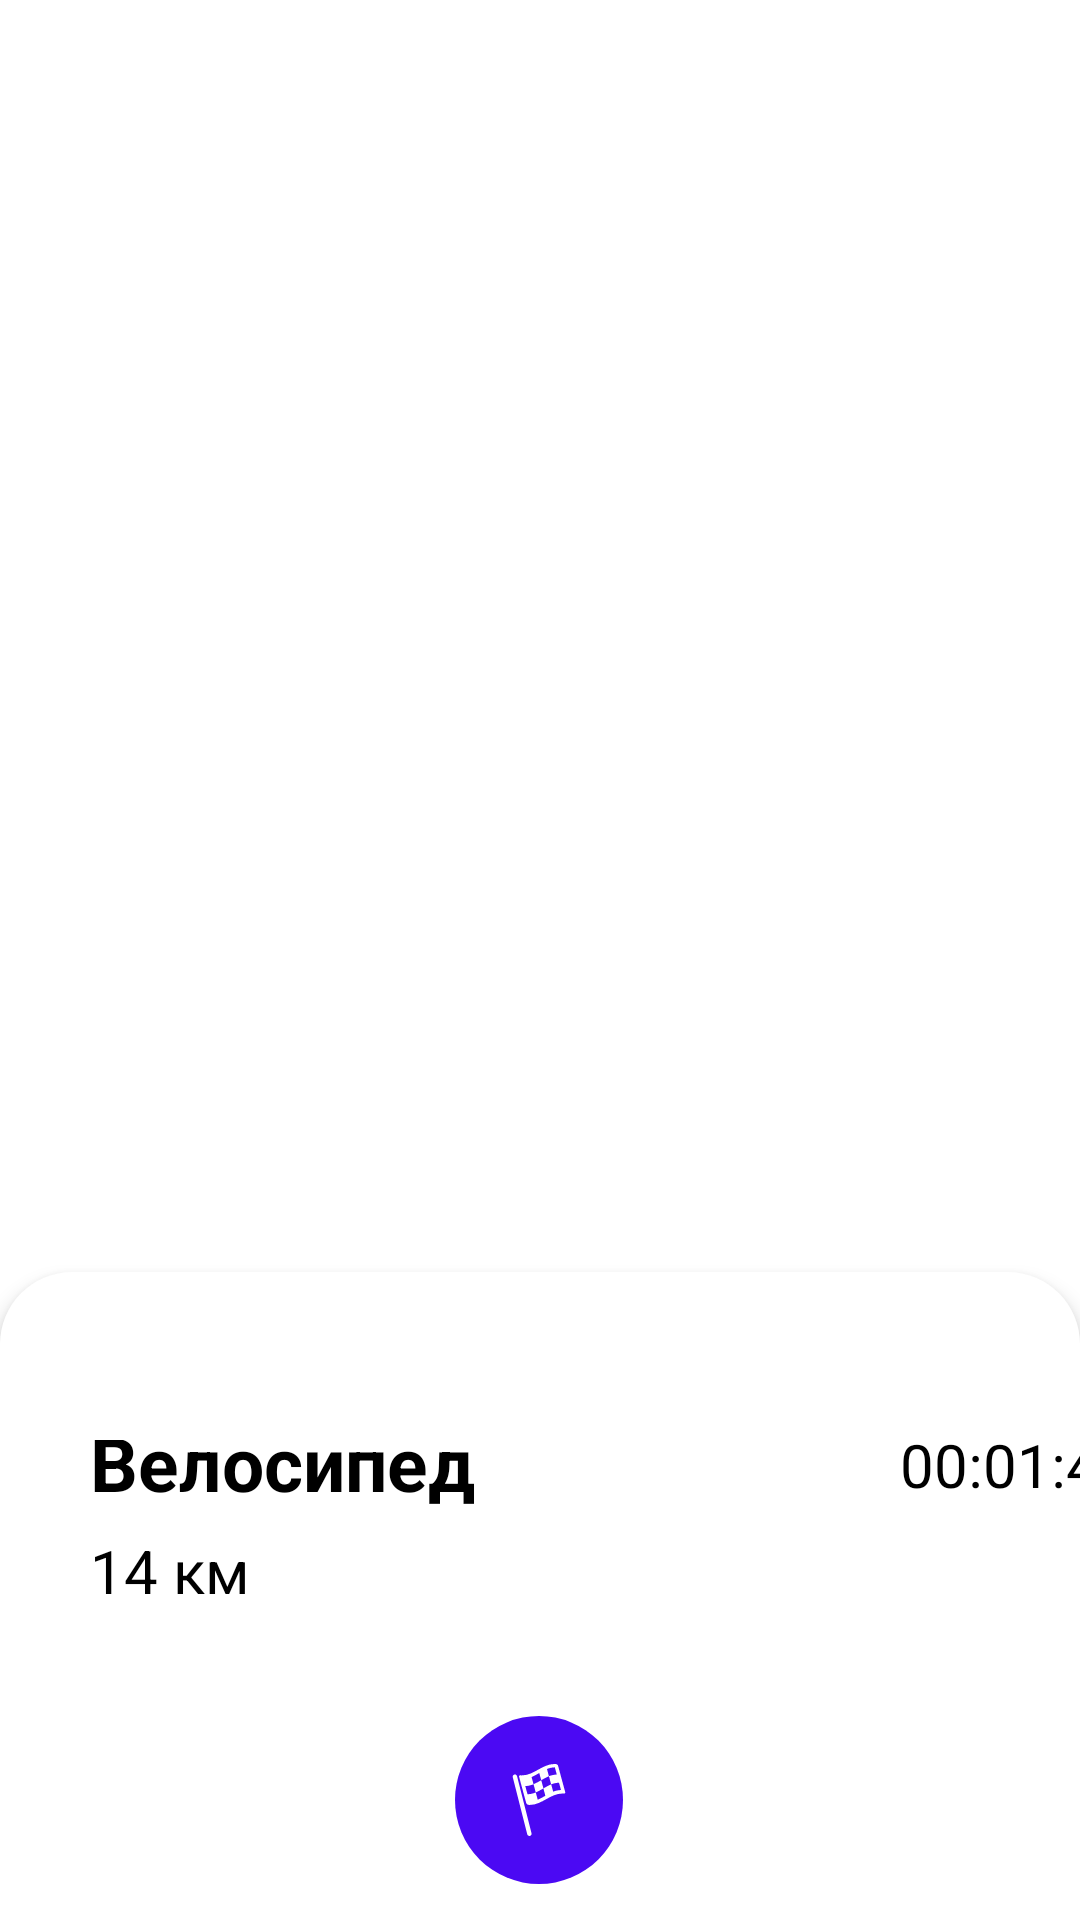

Named icons in this screenshot (1080 x 1920) and their bounding boxes, BBox(x1, y1, x2, y2):
finish: BBox(455, 1716, 623, 1884)
